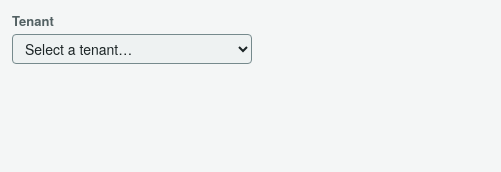
Scenario: SnapshotPicker › lists backups without any tenant under 'No tenant'
Select "No tenant (unassigned backups)" in the dropdown labelled "Tenant" at (132, 49), box 12,34 -> 252,64
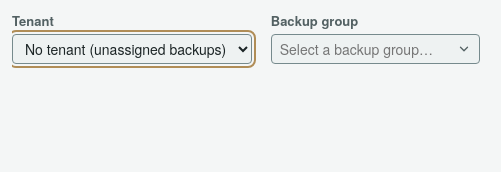
Click the dropdown labelled "Backup group".
click(375, 49)  # box 271,34 -> 480,64
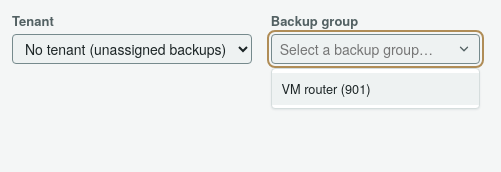
Expected: the option "VM router (901)" is shown, 272,72 -> 479,104
